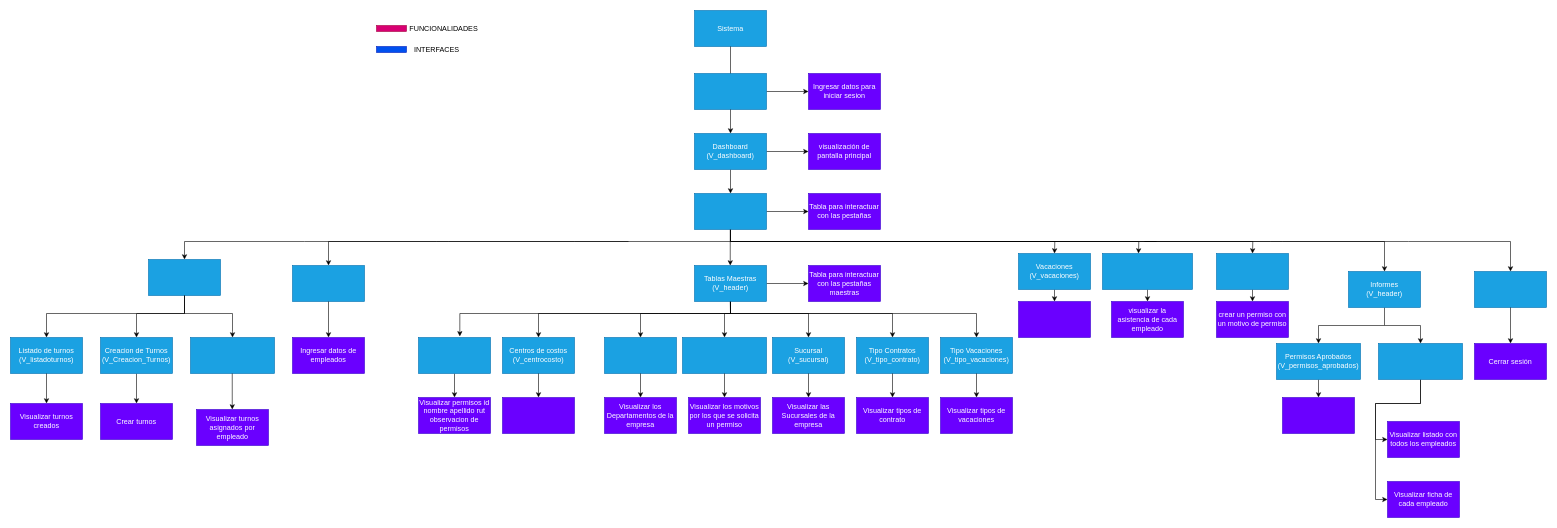
The diagram is 1557 pixels wide and 528 high, and some of its shapes have lost their labels. Each missing label, with the box of its shape:
Asignación de turnos (V_asignacion_turnos): (190, 337, 274, 374)
crear y visualizar vacaciones: (1018, 301, 1090, 338)
Departamentos (V_departamento): (604, 337, 676, 374)
Fichas De Empleados (V_ficha_empleados): (1378, 343, 1462, 380)
Informe de asistencia (V_informe_de_asistencia): (1102, 253, 1192, 290)
ingreso de permisos (V_ingreso_permisos): (1216, 253, 1288, 290)
Ingreso Empleado (V_Ingreso_empleado): (292, 265, 364, 302)
Iniciar sesión (V_Index): (694, 73, 766, 110)
Menú (V_header): (694, 193, 766, 230)
Motivos de permiso (V_motivo_permisos): (682, 337, 766, 374)
Permisos (V_Permisos): (418, 337, 490, 374)
Salir (V_salir): (1474, 271, 1546, 308)
Turnos (V_header): (148, 259, 220, 296)
Visualizar centros de Costos de la empresa: (502, 397, 574, 434)
Visualizar listado de permisos otorgados: (1282, 397, 1354, 434)
